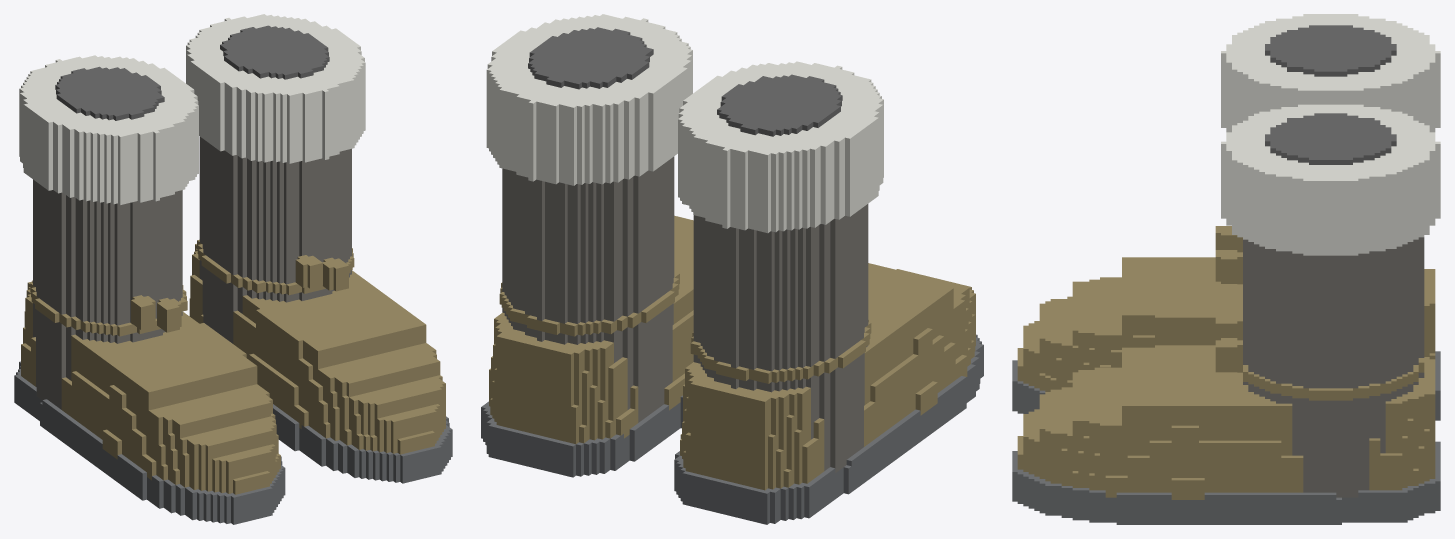
File: boots_faux_fur.glb
The picture shows the model from 3 angles, left to right: view 1: azimuth 30°, elevation 25°; view 2: azimuth 150°, elevation 25°; view 3: azimuth 270°, elevation 25°; orthographic projection. The views are drawn at different scales.
Parts seen in each view (by area): view 1: boots_faux_fur:compound; view 2: boots_faux_fur:compound; view 3: boots_faux_fur:compound.
Boxes of the visible parts, left/top/right/bottom form: boots_faux_fur:compound: left=14, top=14, right=452, bottom=524; boots_faux_fur:compound: left=481, top=14, right=983, bottom=524; boots_faux_fur:compound: left=1012, top=14, right=1440, bottom=524.
Size of the model in its own units: 0.288 by 0.284 by 0.312.
